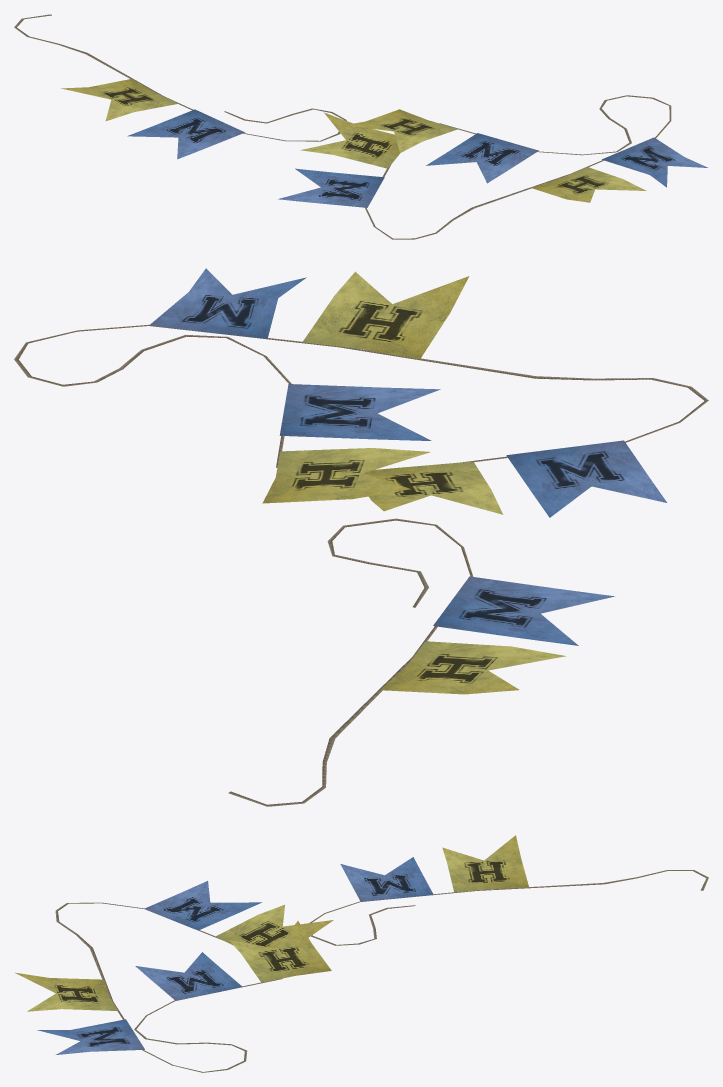
The model's file is Flag Pile_2.FBX.
3 views of the same model, one above another, from view 1: azimuth 30°, elevation 25°; view 2: azimuth 150°, elevation 25°; view 3: azimuth 270°, elevation 25° (orthographic). The views are drawn at different scales.
Visible parts, largest first — view 1: Flag Pile_2; view 2: Flag Pile_2; view 3: Flag Pile_2.
Part boxes in pixels (x1,y1,x2,y2): Flag Pile_2: (14, 14, 707, 239); Flag Pile_2: (14, 268, 708, 806); Flag Pile_2: (15, 835, 708, 1072).
Bounding box in the file's own units: 0.946 × 0.029 × 1.24.
